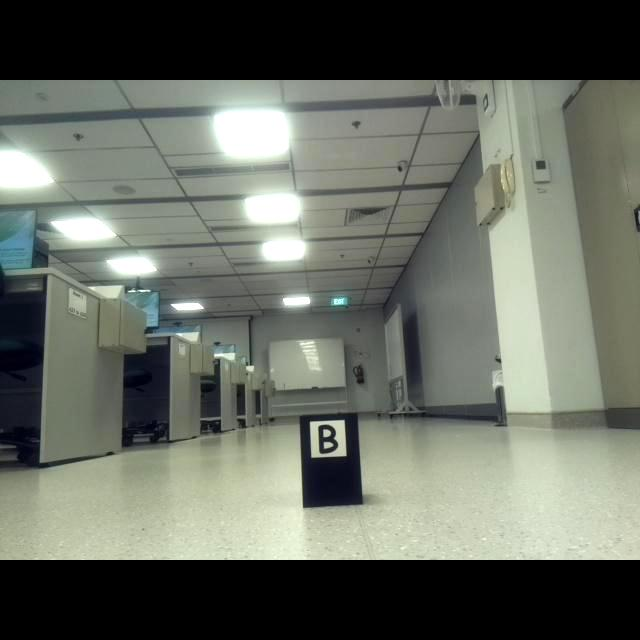B: (317, 424, 338, 455)
